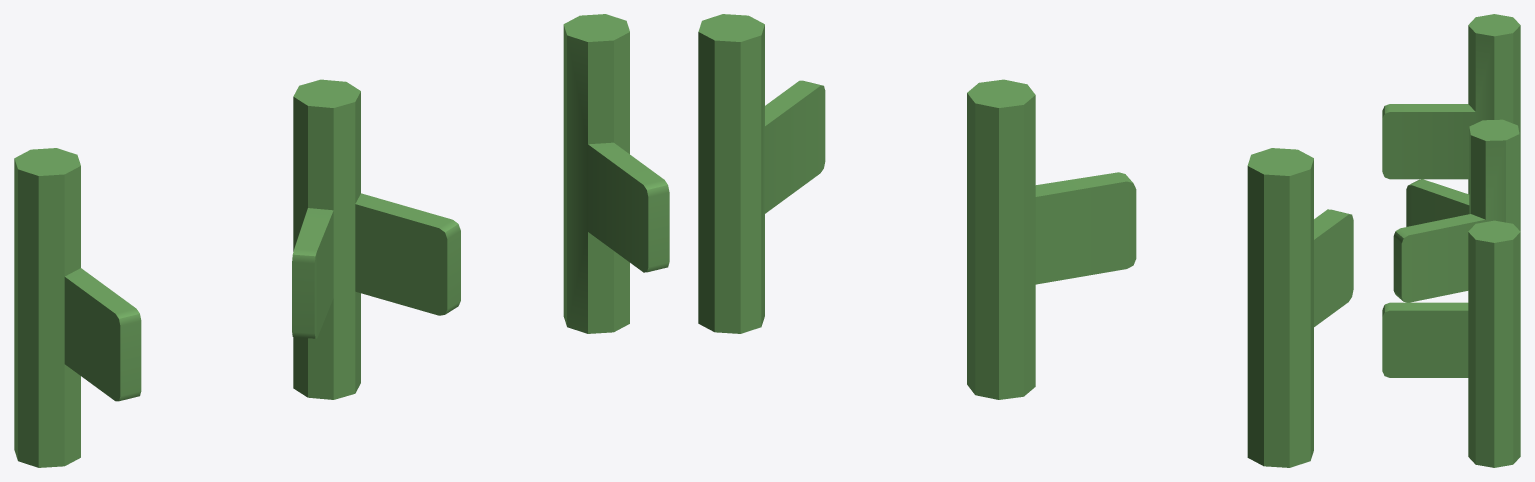
File: GateThing.fbx
The picture shows the model from 3 angles, left to right: view 1: azimuth 30°, elevation 25°; view 2: azimuth 150°, elevation 25°; view 3: azimuth 270°, elevation 25°; orthographic projection. The views are drawn at different scales.
Visible parts, largest first — view 1: GateThing2, GateThing1, GateThing3; view 2: GateThing2, GateThing3, GateThing1; view 3: GateThing3, GateThing2, GateThing1.
Boxes of the visible parts, x1=… form: GateThing2: x1=292, y1=79, x2=460, y2=399; GateThing1: x1=14, y1=148, x2=141, y2=467; GateThing3: x1=563, y1=14, x2=669, y2=333; GateThing2: x1=967, y1=79, x2=1136, y2=399; GateThing3: x1=698, y1=14, x2=825, y2=333; GateThing1: x1=1247, y1=148, x2=1353, y2=467; GateThing3: x1=1382, y1=220, x2=1520, y2=467; GateThing2: x1=1393, y1=119, x2=1519, y2=302; GateThing1: x1=1382, y1=14, x2=1520, y2=231.
Size of the model in its own units: 283 by 130 by 72.29.
